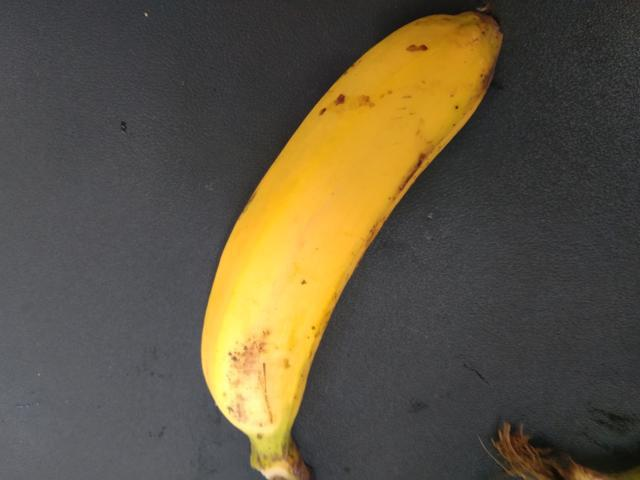ripe: (147, 15, 516, 479)
